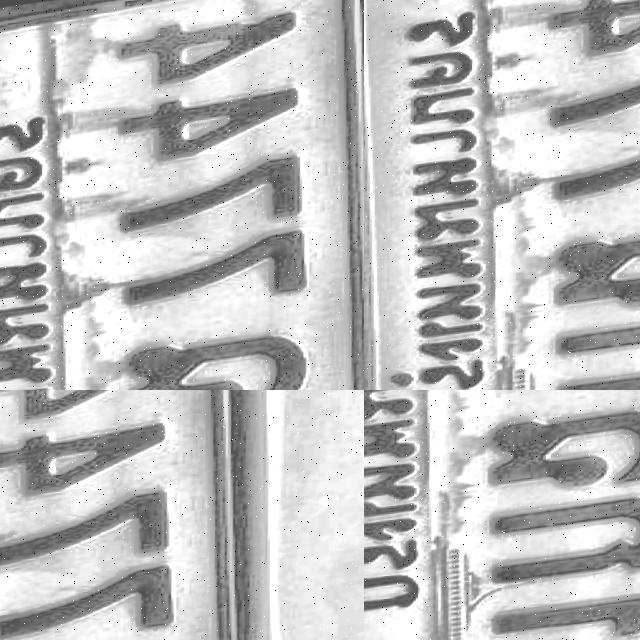license-plate: (364, 0, 640, 390), (13, 396, 364, 640), (364, 390, 640, 640)
